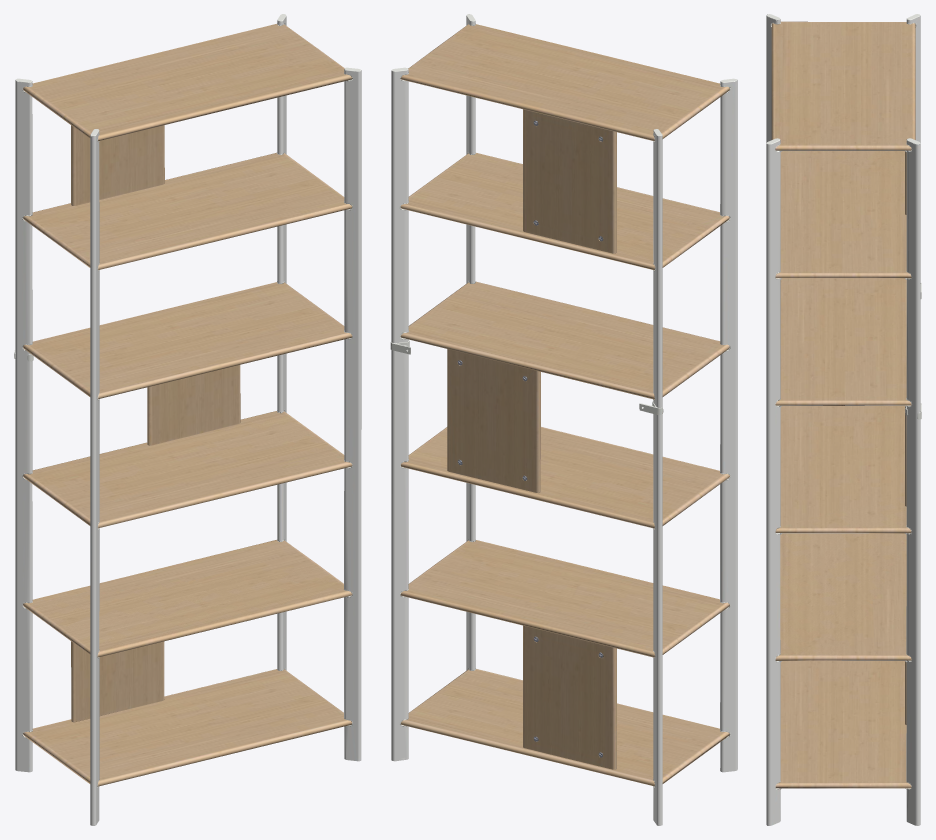
File: JÄTTESTA shelf.glb
3 renders of one model, left to right at view 1: azimuth 30°, elevation 25°; view 2: azimuth 150°, elevation 25°; view 3: azimuth 270°, elevation 25°, orthographic.
Visible parts, largest first — view 1: model; view 2: model; view 3: model.
Part boxes in pixels (box(x1,y1,x2,y2)): model: box(14, 14, 361, 825); model: box(390, 14, 737, 825); model: box(766, 14, 921, 825).
Bounding box in the file's own units: 0.8056 × 1.95 × 0.4037.
Materials: 1 (1 with a texture image).
